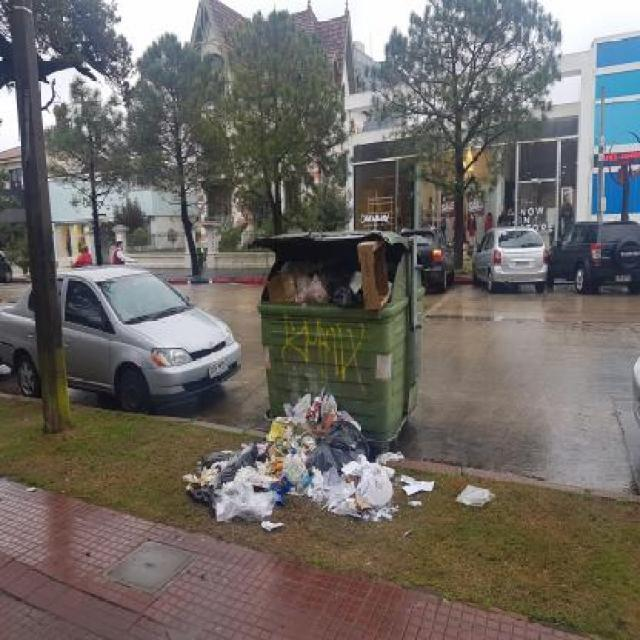garbage: (268, 397, 396, 514), (269, 257, 391, 306), (191, 452, 268, 513), (399, 468, 440, 502), (458, 488, 494, 507), (262, 518, 284, 526)
